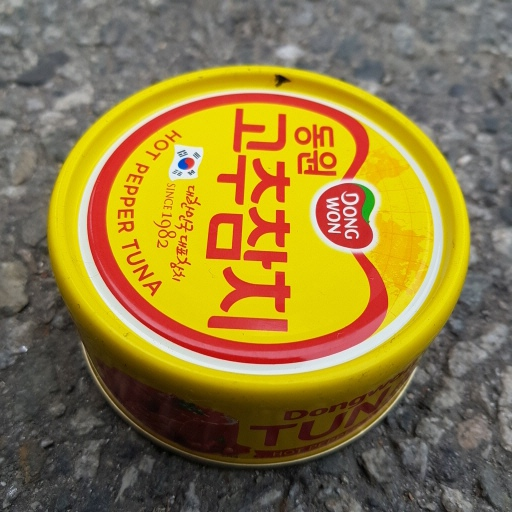Metal_1: (50, 64, 468, 463)
